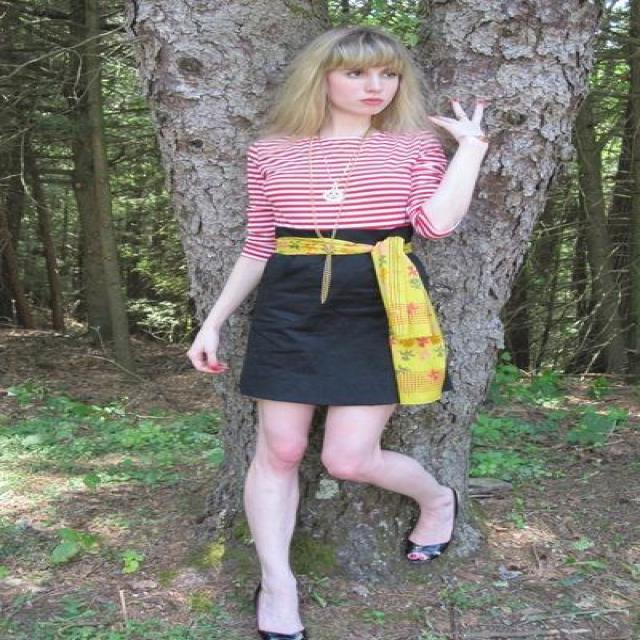shirt: (232, 128, 450, 254)
shoe: (240, 522, 442, 639)
skirt: (235, 222, 413, 416)
